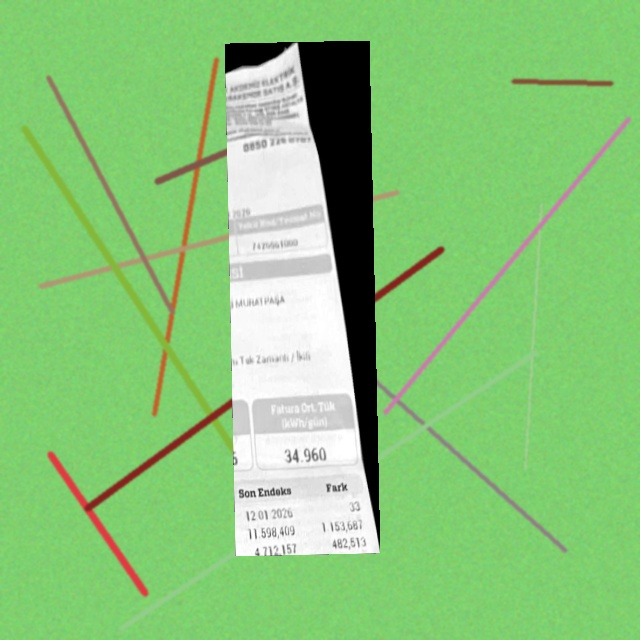electricity-bill: (224, 40, 380, 556)
